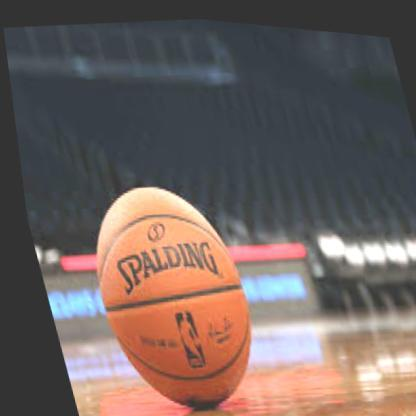basketball: (68, 170, 262, 412)
